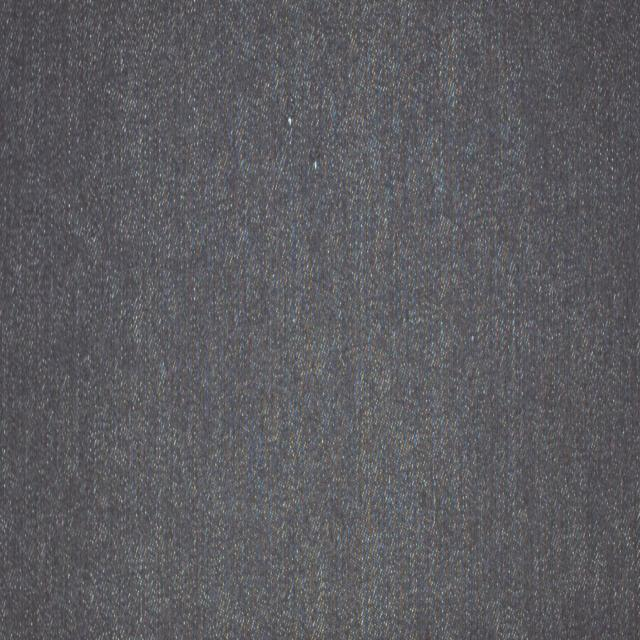Knot: (310, 142, 324, 174), (287, 109, 294, 126), (289, 96, 293, 106)
